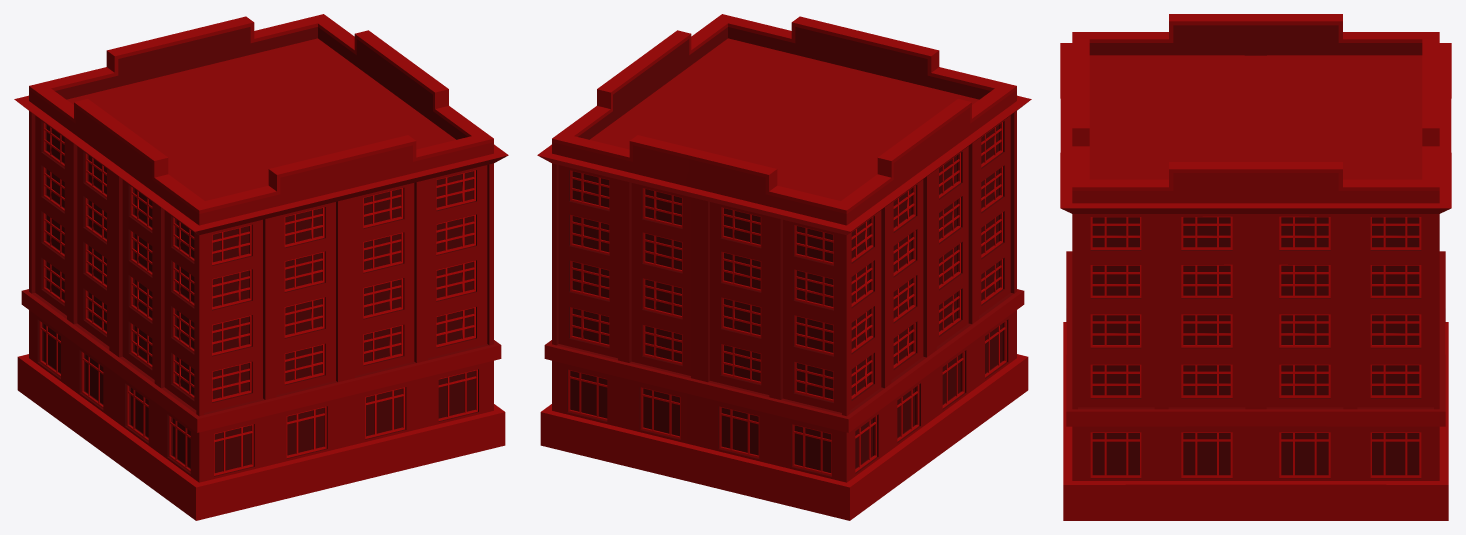
3 views of the same model, side by side, from view 1: azimuth 30°, elevation 25°; view 2: azimuth 150°, elevation 25°; view 3: azimuth 270°, elevation 25° (orthographic). The views are drawn at different scales.
Parts seen in each view (by area): view 1: base.184; view 2: base.184; view 3: base.184.
Part boxes in pixels (left/top/right/bottom): base.184: left=14, top=14, right=508, bottom=520; base.184: left=537, top=14, right=1031, bottom=520; base.184: left=1060, top=14, right=1451, bottom=520.
Bounding box in the file's own units: 2331 × 2331 × 2287.
